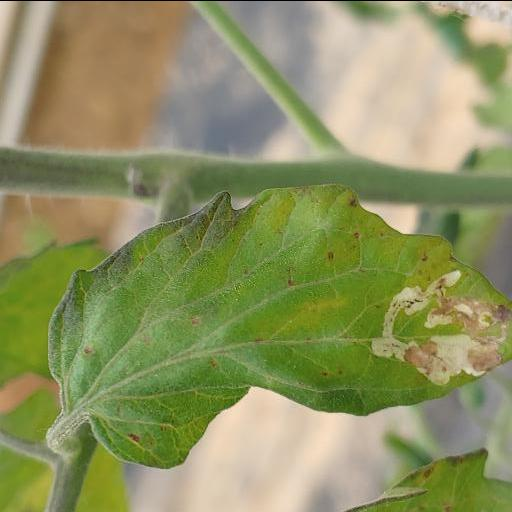disease_tomato: (51, 185, 511, 467)
